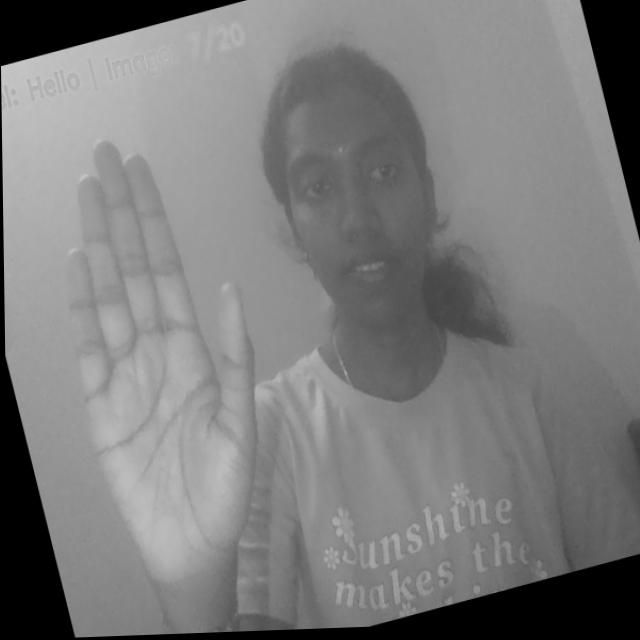Hello: (15, 107, 316, 634)
